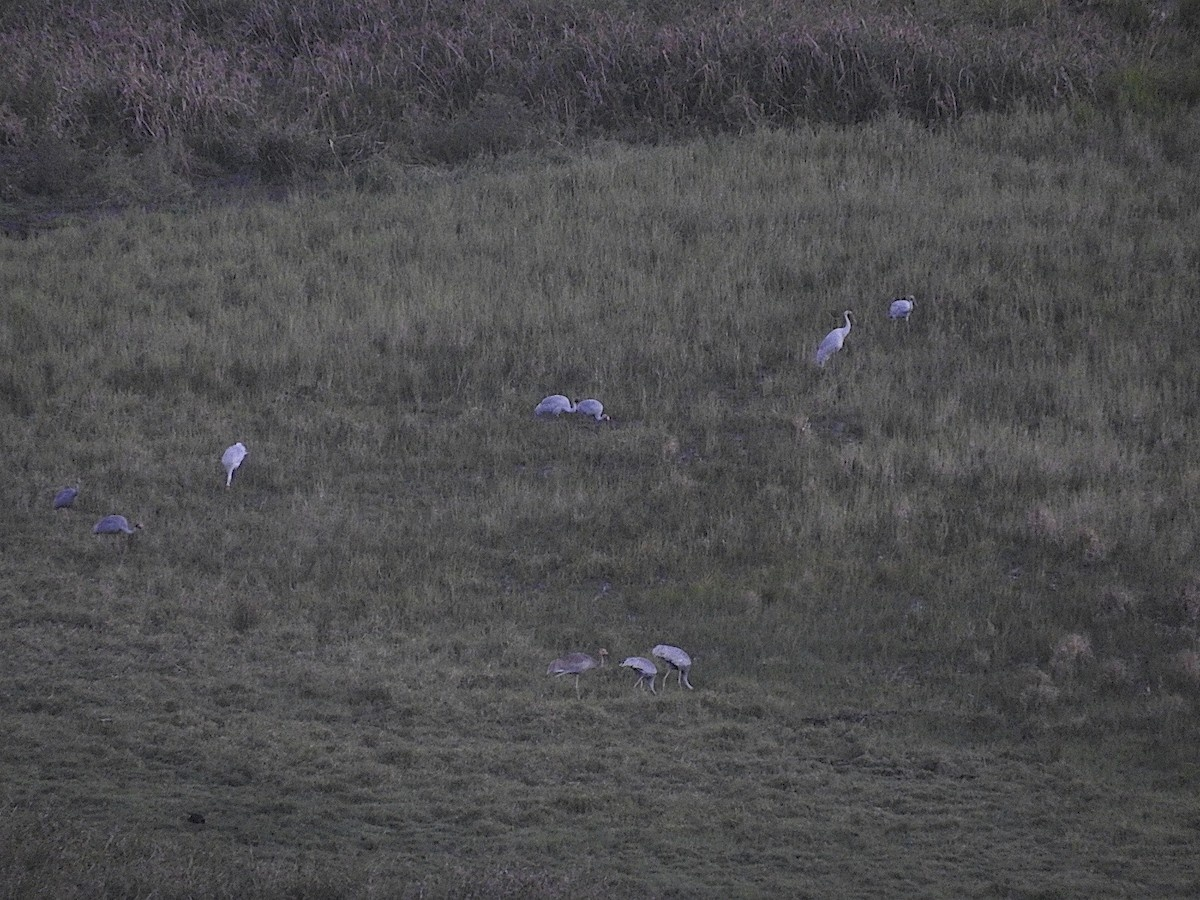crane: (532, 645, 613, 702), (814, 306, 864, 375), (653, 646, 713, 701), (527, 391, 584, 423)
